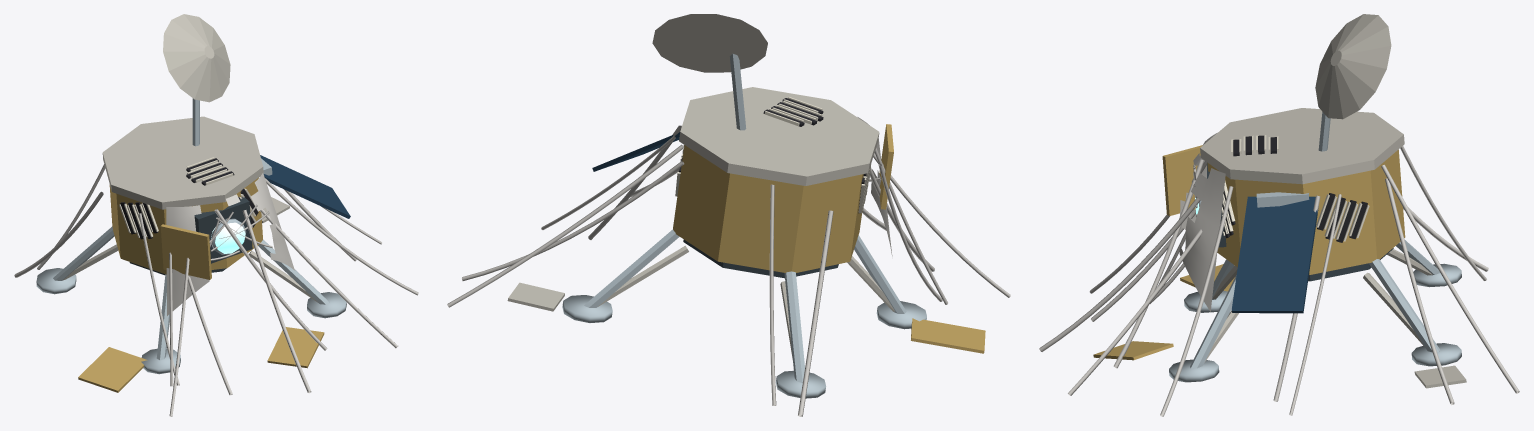
File: lander.glb
The picture shows the model from 3 angles, left to right: view 1: azimuth 30°, elevation 25°; view 2: azimuth 150°, elevation 25°; view 3: azimuth 270°, elevation 25°; orthographic projection. The views are drawn at different scales.
Parts seen in each view (by area): view 1: Lander, Silk, Core; view 2: Lander, Silk; view 3: Lander, Silk.
Boxes of the visible parts, <box> form: Lander: <box>36,14,350,392</box>; Silk: <box>14,164,418,416</box>; Core: <box>211,218,246,254</box>; Lander: <box>507,14,985,398</box>; Silk: <box>447,117,1010,416</box>; Lander: <box>1093,14,1466,388</box>; Silk: <box>1039,133,1519,416</box>.
Bounding box in the file's own units: 4.48 × 3.69 × 4.61.
